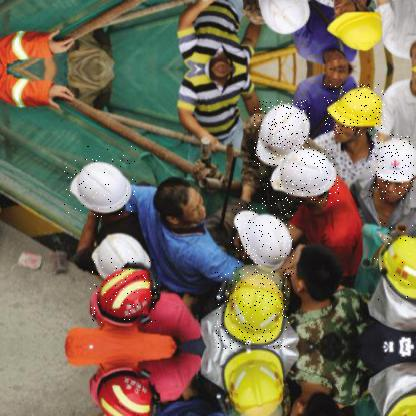safetyhelmet: (215, 272, 290, 350), (64, 146, 137, 218), (232, 202, 296, 276), (90, 258, 159, 324), (260, 148, 340, 204), (254, 100, 312, 168), (374, 222, 415, 308), (324, 84, 386, 136), (369, 134, 415, 200)
